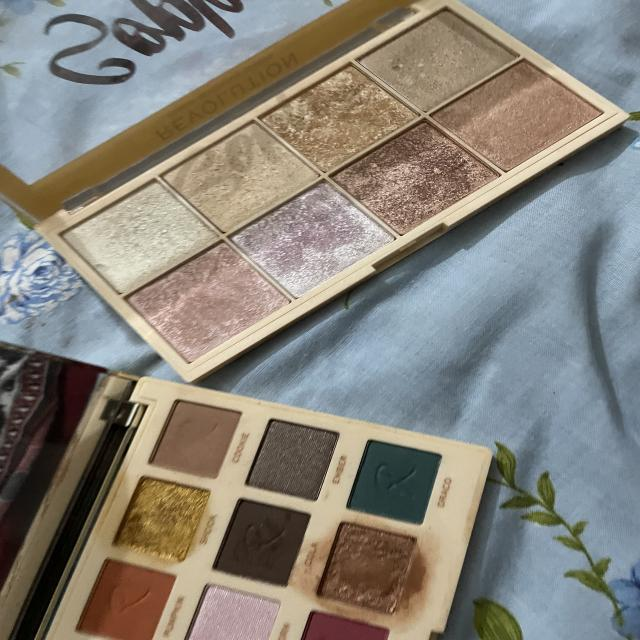eye shade: (64, 462, 428, 640), (151, 383, 456, 522)
highlighter: (412, 52, 615, 177), (120, 232, 302, 370), (217, 175, 405, 306), (316, 115, 514, 238), (54, 170, 219, 287), (158, 116, 326, 229), (255, 61, 418, 177), (361, 5, 524, 116)
